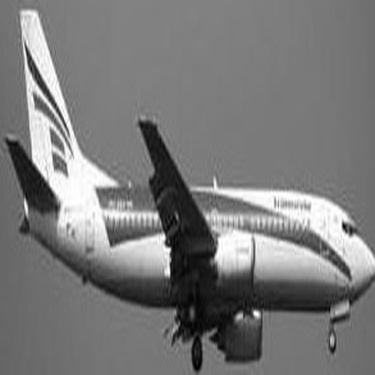airplane: (4, 3, 370, 373)
